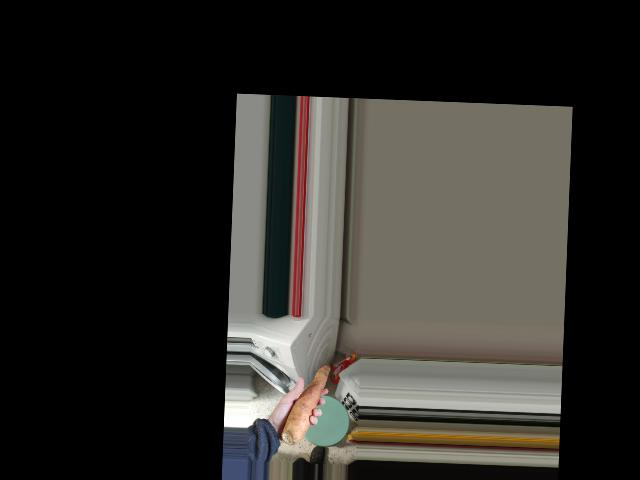sweet_potato: (278, 357, 334, 447)
